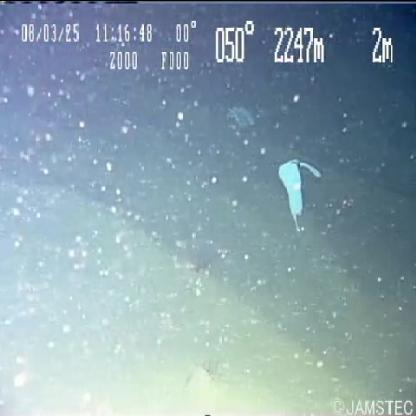Rác: (279, 160, 304, 224)
